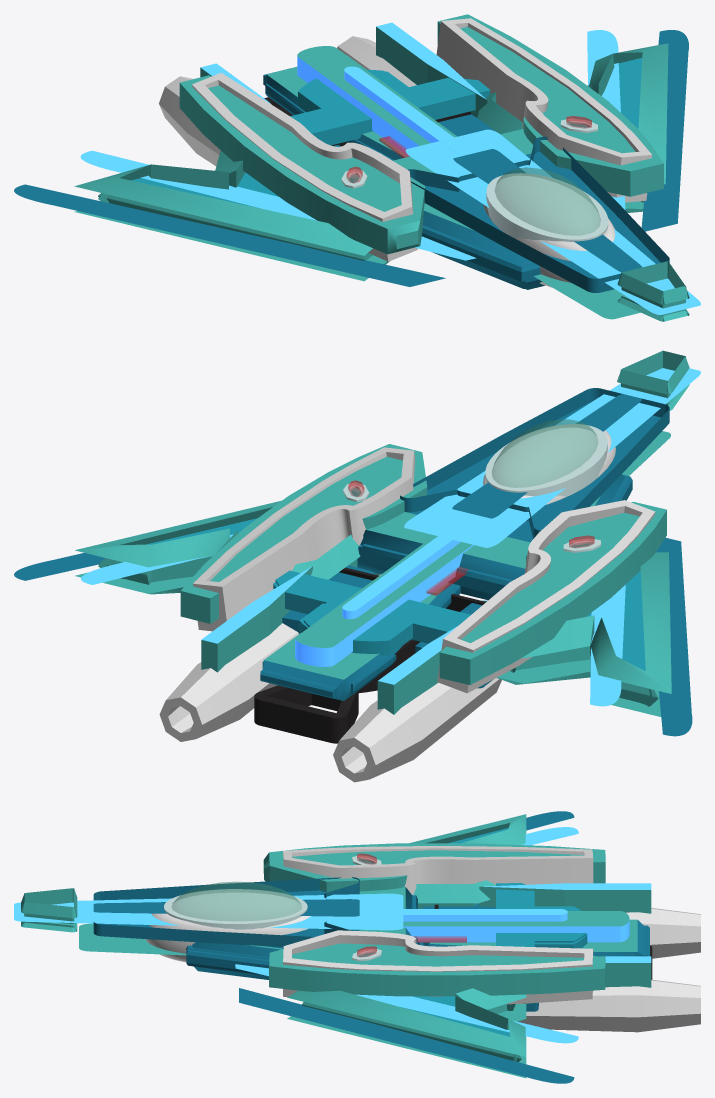
The model's file is shipflipblue.fbx.
3 renders of one model, top to bottom at view 1: azimuth 30°, elevation 25°; view 2: azimuth 150°, elevation 25°; view 3: azimuth 270°, elevation 25°, orthographic. The views are drawn at different scales.
Parts seen in each view (by area): view 1: Path_22, Path_14, Cap_1_3, Cap_1_7, Path_28, Cap_1_16, Path_29, Cap_1_21, Cap_1_10, Path_8, Sphere, Path_4 (+29 smaller); view 2: Path_14, Path_22, Tube_1, Path_4, Cap_1_3, Path_28, Tube, Cap_1_16, Cap_1_10, Cap_1_21, Path_29, Path_8 (+32 smaller); view 3: Path_28, Path_4, Path_15, Tube, Path_14, Path_8, Cap_1_16, Cap_1_24, Cap_1_10, Cap_1_21, Sphere, Cap_1_3 (+26 smaller).
Boxes of the visible parts, x1=… form: Path_22: x1=74, y1=150, x2=389, y2=280; Path_14: x1=436, y1=18, x2=652, y2=202; Cap_1_3: x1=180, y1=75, x2=425, y2=228; Cap_1_7: x1=14, y1=184, x2=445, y2=286; Path_28: x1=192, y1=72, x2=417, y2=261; Cap_1_16: x1=438, y1=14, x2=663, y2=171; Path_29: x1=179, y1=83, x2=425, y2=254; Cap_1_21: x1=486, y1=173, x2=608, y2=239; Cap_1_10: x1=405, y1=129, x2=700, y2=314; Path_8: x1=408, y1=136, x2=669, y2=292; Sphere: x1=495, y1=167, x2=600, y2=235; Path_4: x1=477, y1=43, x2=668, y2=212; Path_14: x1=193, y1=447, x2=415, y2=631; Path_22: x1=497, y1=552, x2=671, y2=706; Tube_1: x1=333, y1=678, x2=501, y2=782; Path_4: x1=75, y1=500, x2=380, y2=594; Cap_1_3: x1=440, y1=502, x2=666, y2=659; Path_28: x1=437, y1=500, x2=655, y2=693; Tube: x1=159, y1=623, x2=298, y2=741; Cap_1_16: x1=181, y1=444, x2=427, y2=598; Cap_1_10: x1=404, y1=368, x2=700, y2=547; Cap_1_21: x1=485, y1=424, x2=607, y2=490; Path_29: x1=439, y1=510, x2=666, y2=684; Path_8: x1=400, y1=388, x2=669, y2=538; Path_28: x1=283, y1=846, x2=593, y2=895; Path_4: x1=287, y1=988, x2=526, y2=1062; Path_15: x1=269, y1=964, x2=605, y2=996; Tube: x1=518, y1=979, x2=700, y2=1032; Path_14: x1=283, y1=930, x2=593, y2=1004; Path_8: x1=93, y1=877, x2=359, y2=946; Cap_1_16: x1=269, y1=943, x2=605, y2=975; Cap_1_24: x1=239, y1=988, x2=574, y2=1083; Cap_1_10: x1=14, y1=893, x2=403, y2=930; Cap_1_21: x1=164, y1=889, x2=307, y2=923; Sphere: x1=172, y1=881, x2=301, y2=920; Cap_1_3: x1=269, y1=843, x2=605, y2=881.
Size of the model in its own units: 192 by 36.92 by 206.
